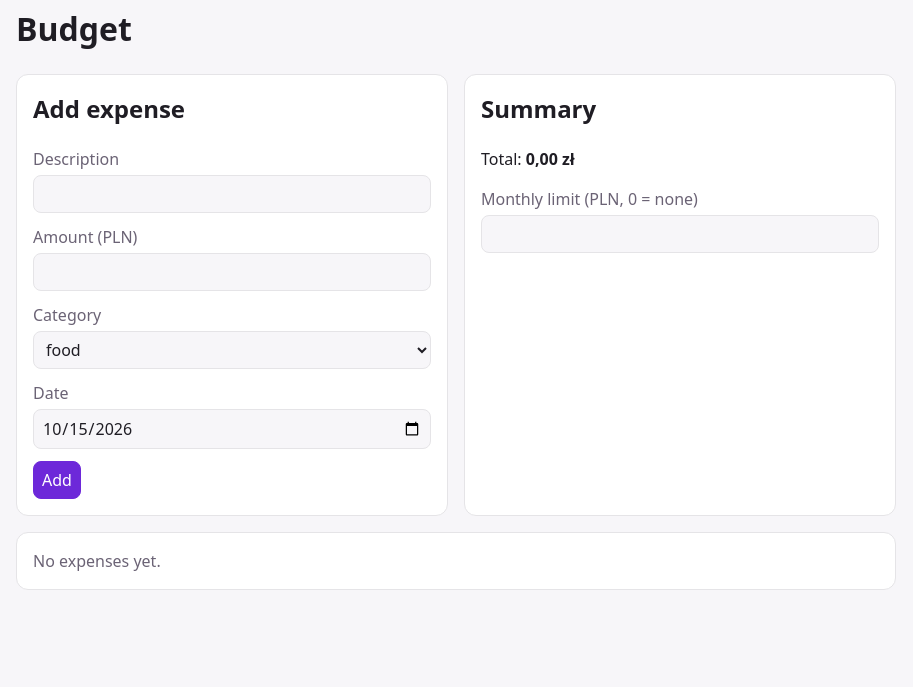
App › shows validation errors and does not add invalid expenses
Click the button "Add": {"x": 57, "y": 480} [33,461,81,499]
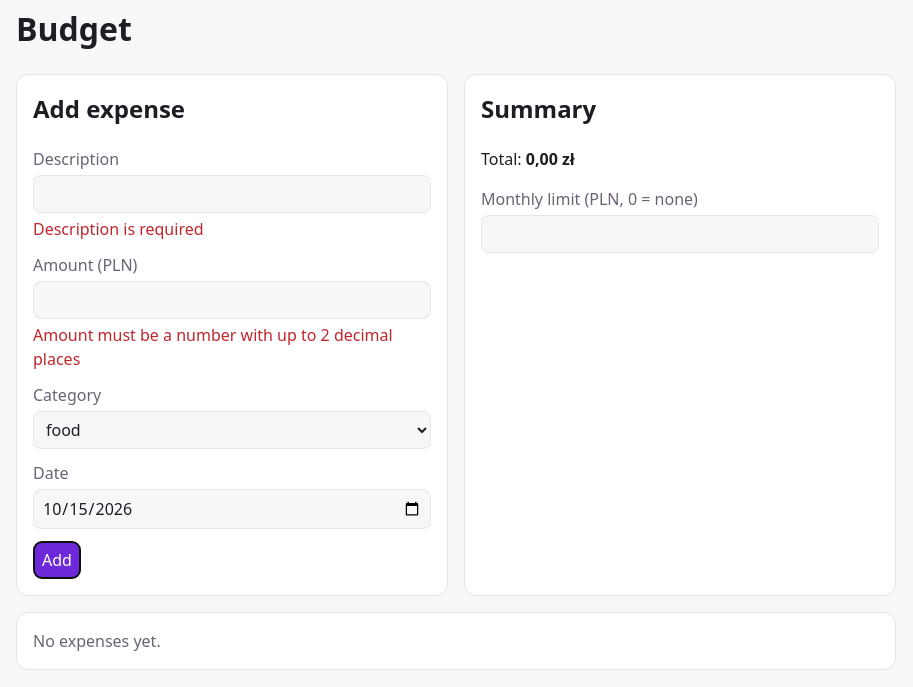
Expected: the text "No expenses yet." is shown, [16,612,896,670]
Now the text "Description is required" is shown, box [33,218,204,240]
